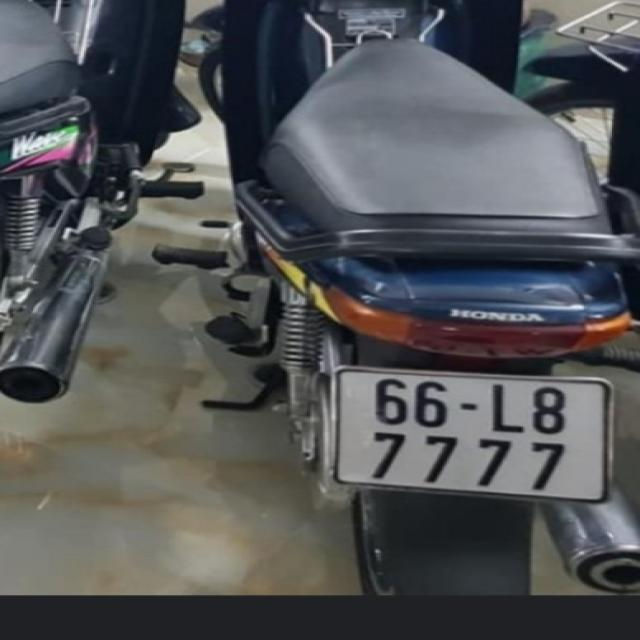6: (372, 371, 412, 429), (418, 374, 448, 431)
7: (365, 422, 411, 486), (530, 438, 570, 495), (422, 428, 460, 485), (475, 436, 514, 486)
8: (530, 378, 581, 437)
L: (484, 378, 527, 438)
